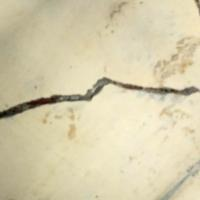crack: (0, 54, 199, 167)
